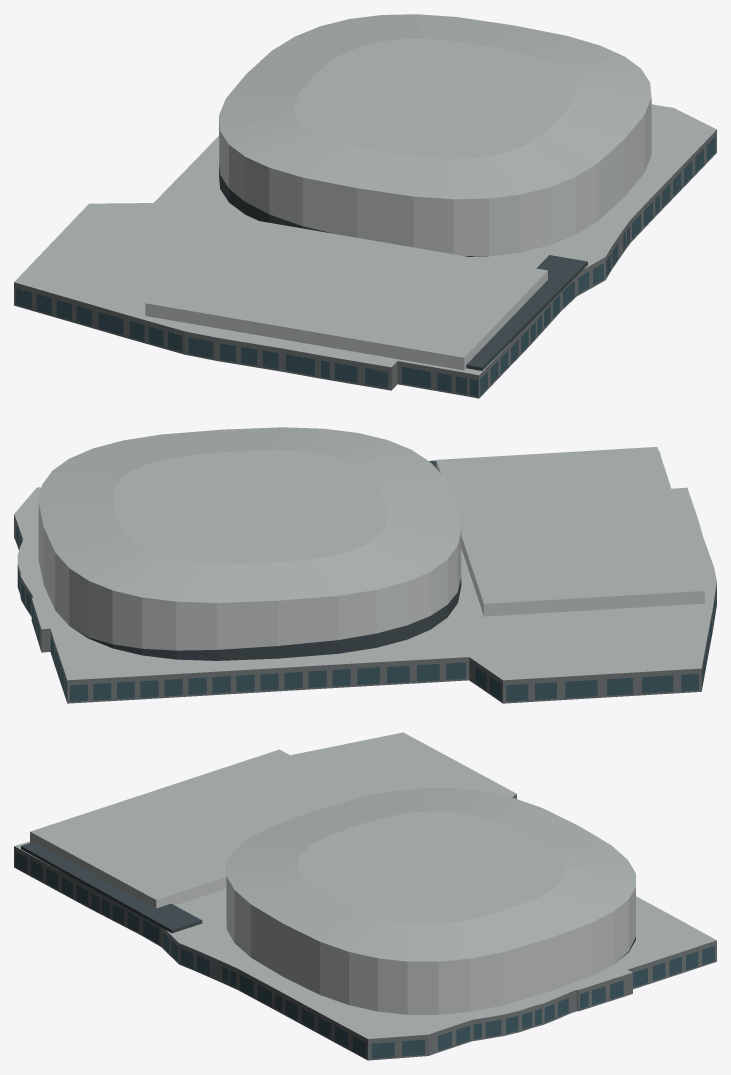
File: place-bell-laval-far.glb
The picture shows the model from 3 angles, top to bottom: view 1: azimuth 30°, elevation 25°; view 2: azimuth 150°, elevation 25°; view 3: azimuth 270°, elevation 25°; orthographic projection. The views are drawn at different scales.
Parts seen in each view (by area): view 1: place-bell-laval-0-roof, place-bell-laval-0-cladding, place-bell-laval-0-glass, place-bell-laval-0-base, place-bell-laval-0-frame; view 2: place-bell-laval-0-roof, place-bell-laval-0-cladding, place-bell-laval-0-glass, place-bell-laval-0-base, place-bell-laval-0-frame; view 3: place-bell-laval-0-roof, place-bell-laval-0-cladding, place-bell-laval-0-glass, place-bell-laval-0-base, place-bell-laval-0-frame.
Part boxes in pixels (box(x1,y1,x2,y2)): place-bell-laval-0-roof: box(14, 14, 716, 375); place-bell-laval-0-cladding: box(145, 98, 651, 370); place-bell-laval-0-glass: box(16, 136, 715, 396); place-bell-laval-0-base: box(14, 130, 716, 398); place-bell-laval-0-frame: box(219, 163, 587, 370); place-bell-laval-0-roof: box(14, 427, 716, 680); place-bell-laval-0-cladding: box(38, 460, 704, 650); place-bell-laval-0-glass: box(16, 525, 716, 701); place-bell-laval-0-base: box(14, 515, 716, 703); place-bell-laval-0-frame: box(73, 460, 461, 660); place-bell-laval-0-roof: box(14, 732, 716, 1038); place-bell-laval-0-cladding: box(30, 832, 635, 1014); place-bell-laval-0-glass: box(15, 852, 714, 1058); place-bell-laval-0-base: box(14, 794, 716, 1060); place-bell-laval-0-frame: box(21, 842, 635, 962).
Bounding box in the file's own units: 209 × 26 × 202.
